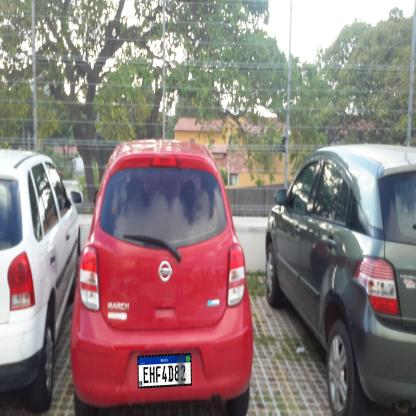PlacaM: (137, 353, 192, 388)
